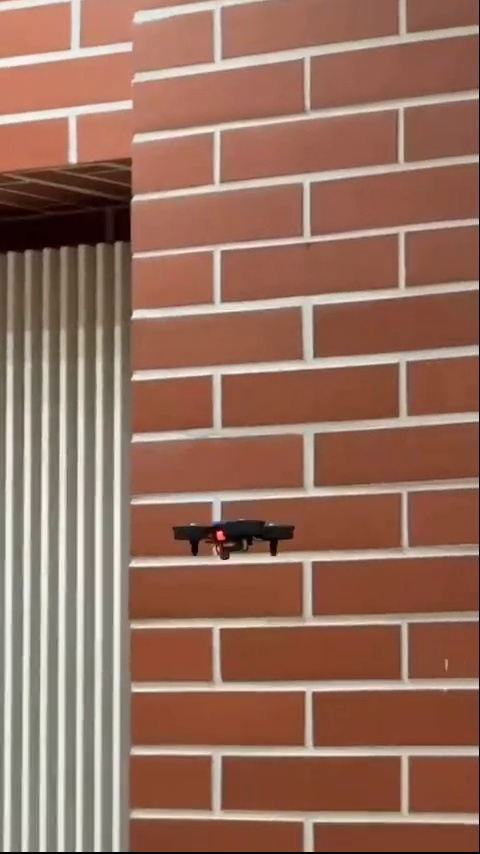drone: (170, 513, 300, 564)
